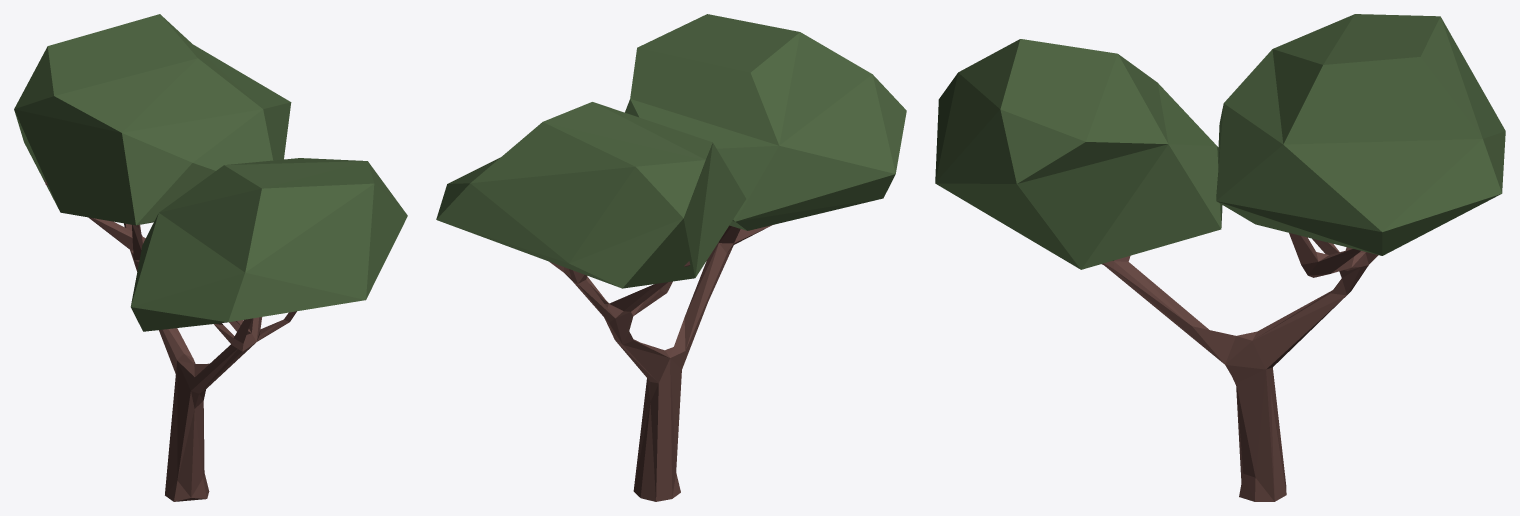
The model's file is qn_tree_a.glb.
3 views of the same model, side by side, from view 1: azimuth 30°, elevation 25°; view 2: azimuth 150°, elevation 25°; view 3: azimuth 270°, elevation 25° (orthographic). The views are drawn at different scales.
Parts seen in each view (by area): view 1: qn_tree_a; view 2: qn_tree_a; view 3: qn_tree_a.
Boxes of the visible parts, x1=… form: qn_tree_a: x1=14, y1=14, x2=407, y2=501; qn_tree_a: x1=436, y1=14, x2=906, y2=501; qn_tree_a: x1=935, y1=14, x2=1505, y2=501.
Size of the model in its own units: 1.89 by 2.44 by 2.75.
